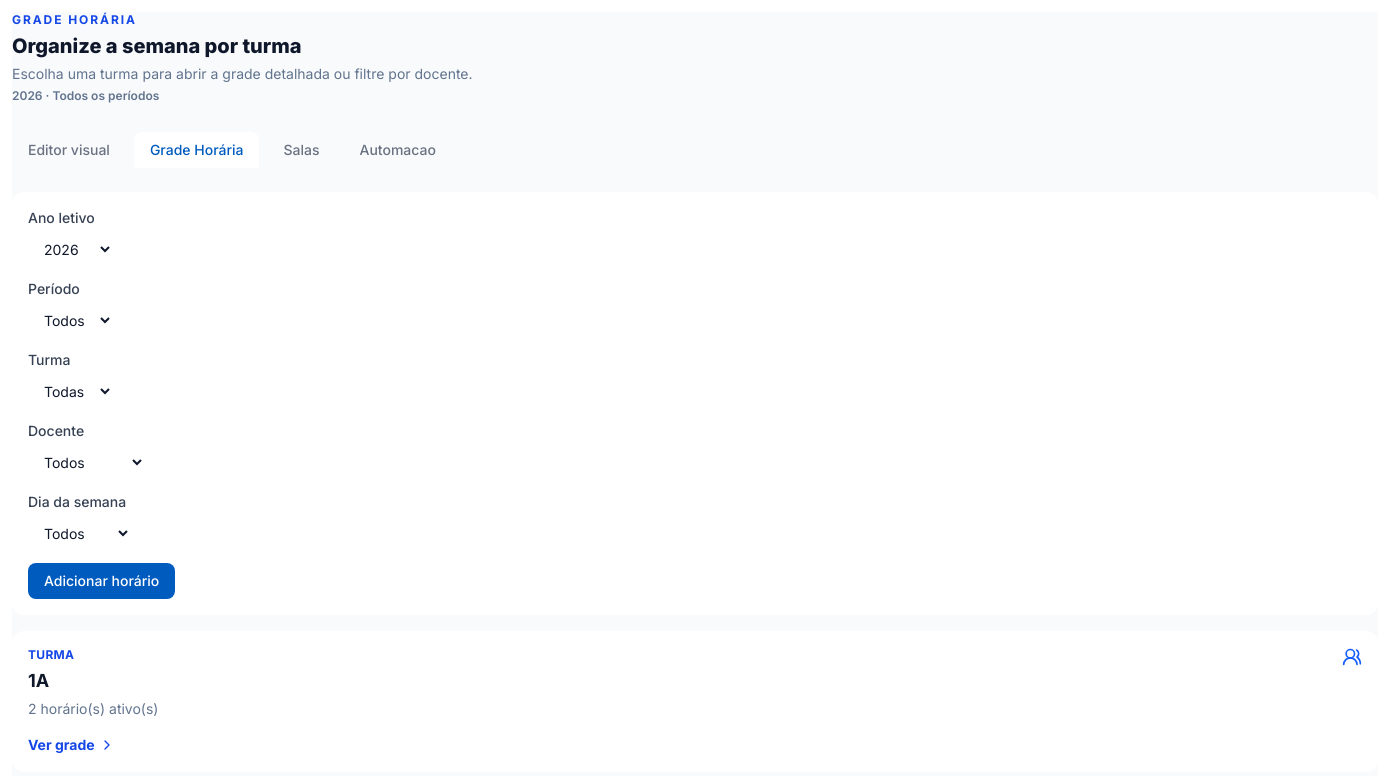
TimetableTab › mostra sala na celula da grade
The width and height of the screenshot is (1378, 776).
Click the button "Ver grade" at (71, 745), box [28, 735, 115, 755]
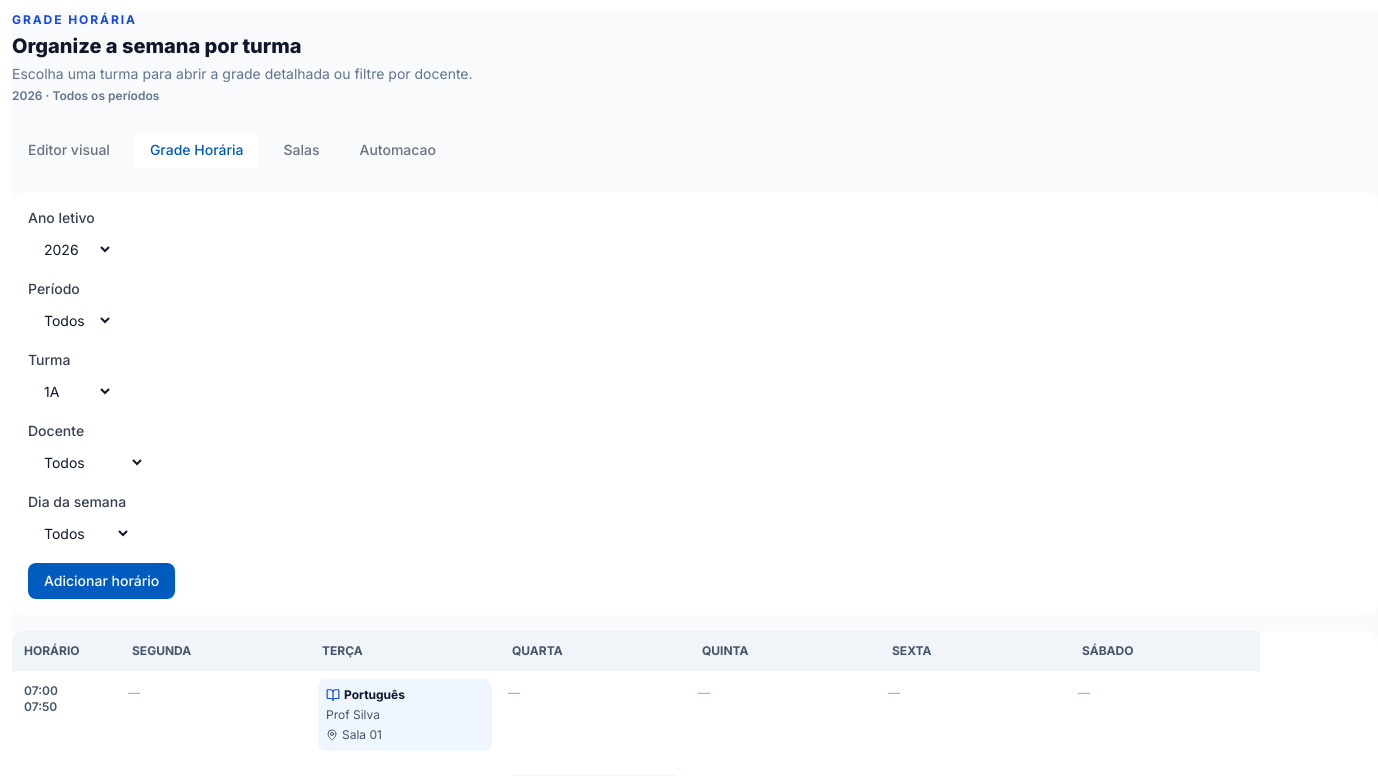
Expected: the text "Sala 01" is shown, [326, 727, 382, 742]
